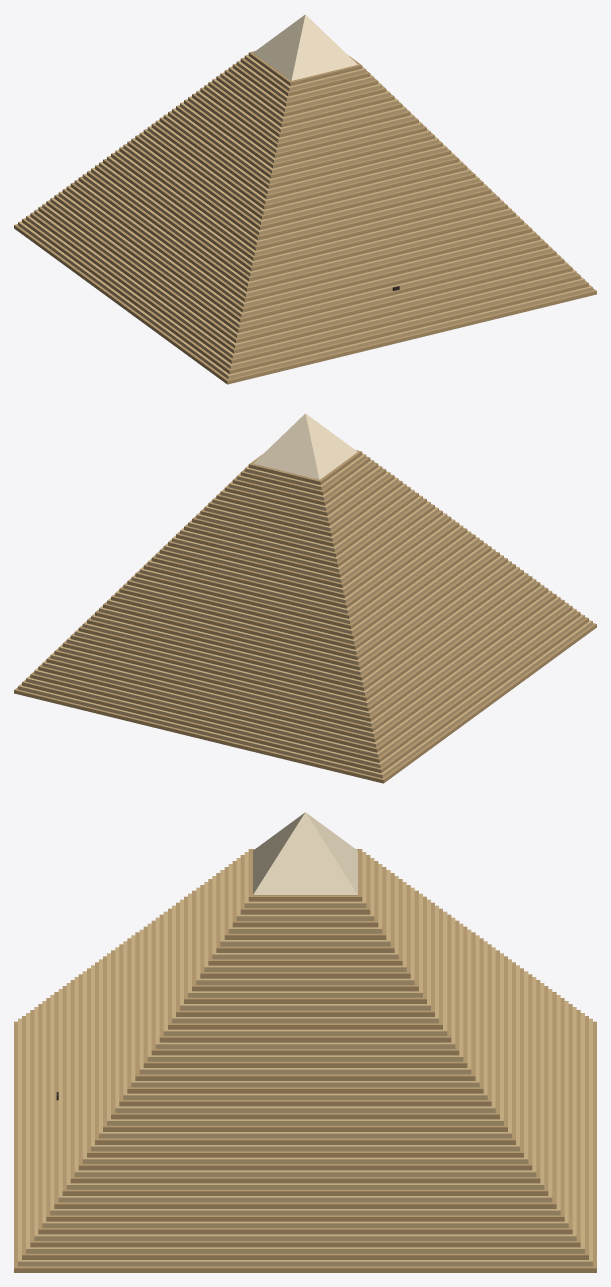
Rendered from pyramid_mellan.glb.
3 views of the same model, one above another, from view 1: azimuth 30°, elevation 25°; view 2: azimuth 150°, elevation 25°; view 3: azimuth 270°, elevation 25° (orthographic). The views are drawn at different scales.
Parts seen in each view (by area): view 1: pyramid_mellan; view 2: pyramid_mellan; view 3: pyramid_mellan.
Boxes of the visible parts, x1,y1,x2,y2 form: pyramid_mellan: (14,14,596,384); pyramid_mellan: (14,413,596,783); pyramid_mellan: (14,812,596,1272).
Bounding box in the file's own units: 180 × 115 × 180.
